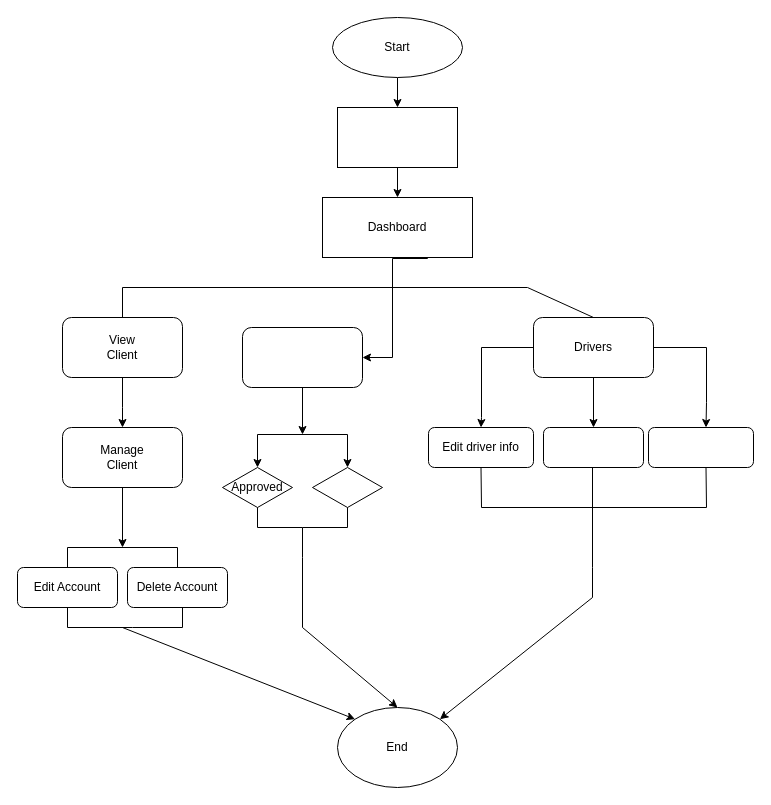
Some shapes in this 771 by 805 pixel diagram are drawn without their labels. Each missing label, with the centre of its shape:
"Add driver" goes at point 593,447.
"Declined" goes at point 347,487.
"Delete driver info" goes at point 701,447.
"Log in" goes at point 397,137.
"Manage Client's Request" goes at point 302,357.
